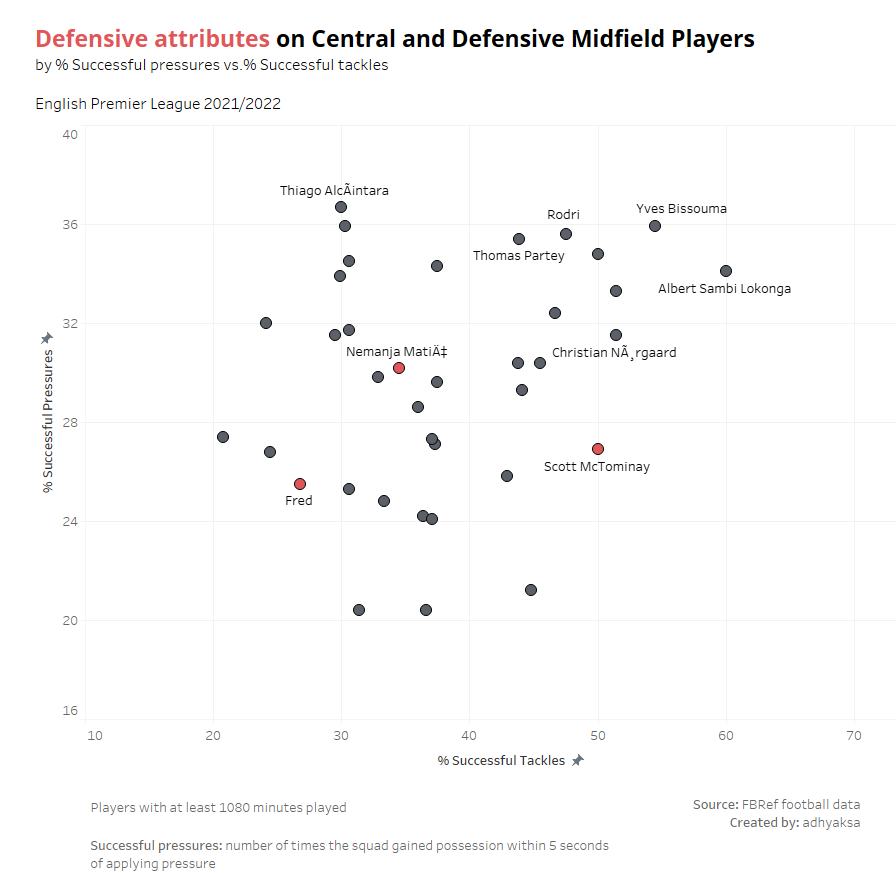

What the dashboard file says about the page in this screenshot:
{"tool":"tableau","page":{"name":"Dashboard 3","canvas":[1000,1000],"units":"permille","ordinal":2},"visuals":[{"type":"worksheet","title":"Sheet 2","mark":"Circle","rows":["crosses_per90"],"cols":["def_action_per90"],"box":[147,29.4,461.2,881.3]},{"type":"text","box":[493.2,913,115,74]},{"type":"text","box":[180.2,929.5,283.5,42.3]}]}

Visuals, with their boxes on the dashboard's canvas, which has no fixed pixel size, in thousandths of its width and height (x1, y1, x2, y2). These are canvas units, not pixel positions in the 896x873 screenshot, which may show the page scaled, cropped or inside an application window:
"Sheet 2" worksheet (Circle marks): x1=147 y1=29 x2=608 y2=911
text: x1=493 y1=913 x2=608 y2=987
text: x1=180 y1=930 x2=464 y2=972
